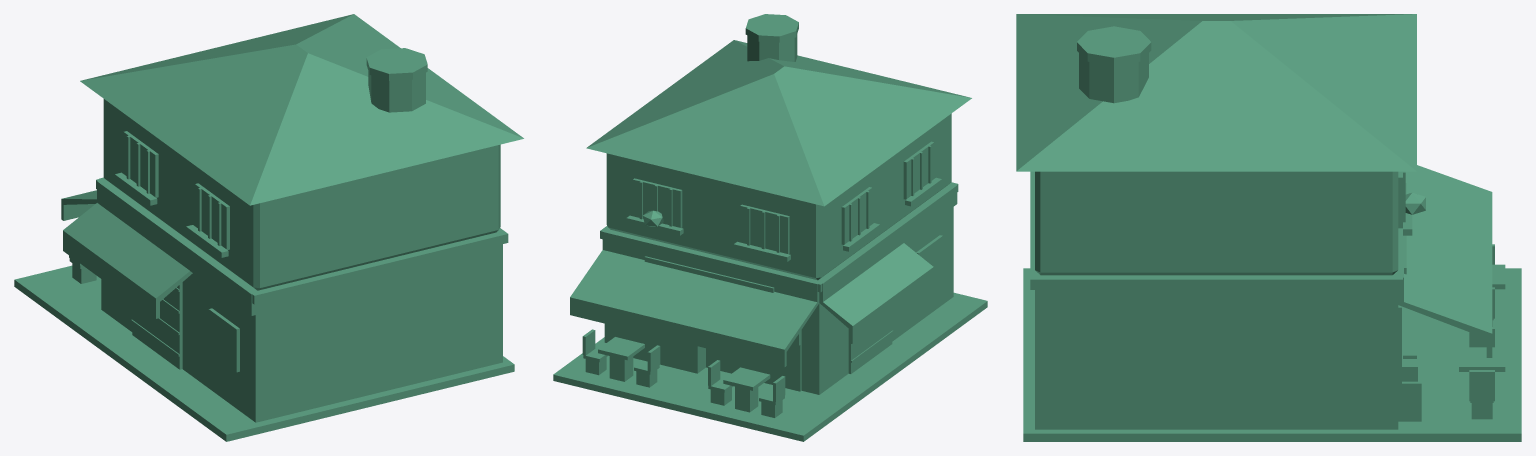
3 renders of one model, left to right at view 1: azimuth 30°, elevation 25°; view 2: azimuth 150°, elevation 25°; view 3: azimuth 270°, elevation 25°, orthographic. The views are drawn at different scales.
Visible parts, largest first — view 1: corpo; view 2: corpo; view 3: corpo.
Part boxes in pixels (box(x1,y1,x2,y2)): corpo: box(14, 14, 523, 441); corpo: box(553, 14, 987, 441); corpo: box(1016, 14, 1521, 441).
Bounding box in the file's own units: 0.872 × 0.84 × 1.09.
